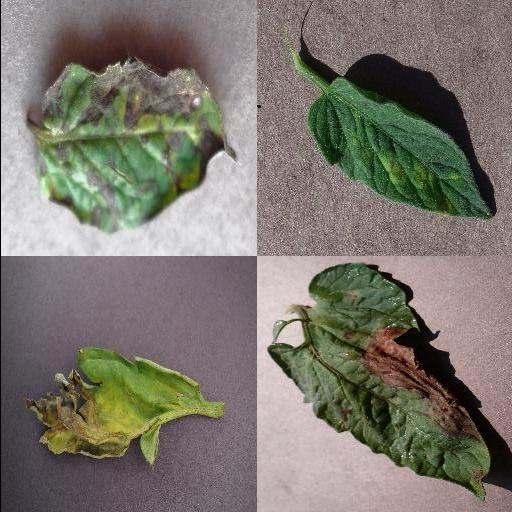Early Blight: (40, 55, 236, 235)
Late Blight: (268, 263, 490, 503), (20, 346, 206, 468)
Leaf Mold: (307, 76, 495, 220)
